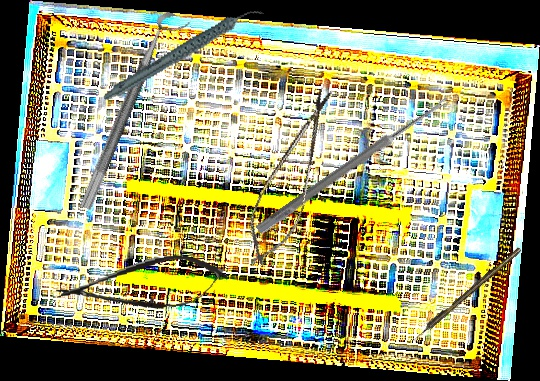Fixation Ring: (78, 8, 191, 218)
Handpiece: (91, 6, 275, 103)
Hook Surgical: (410, 246, 523, 343)
Micro Scissor: (234, 77, 348, 277), (53, 249, 230, 321)
Surgical Spoon: (255, 94, 451, 236)
